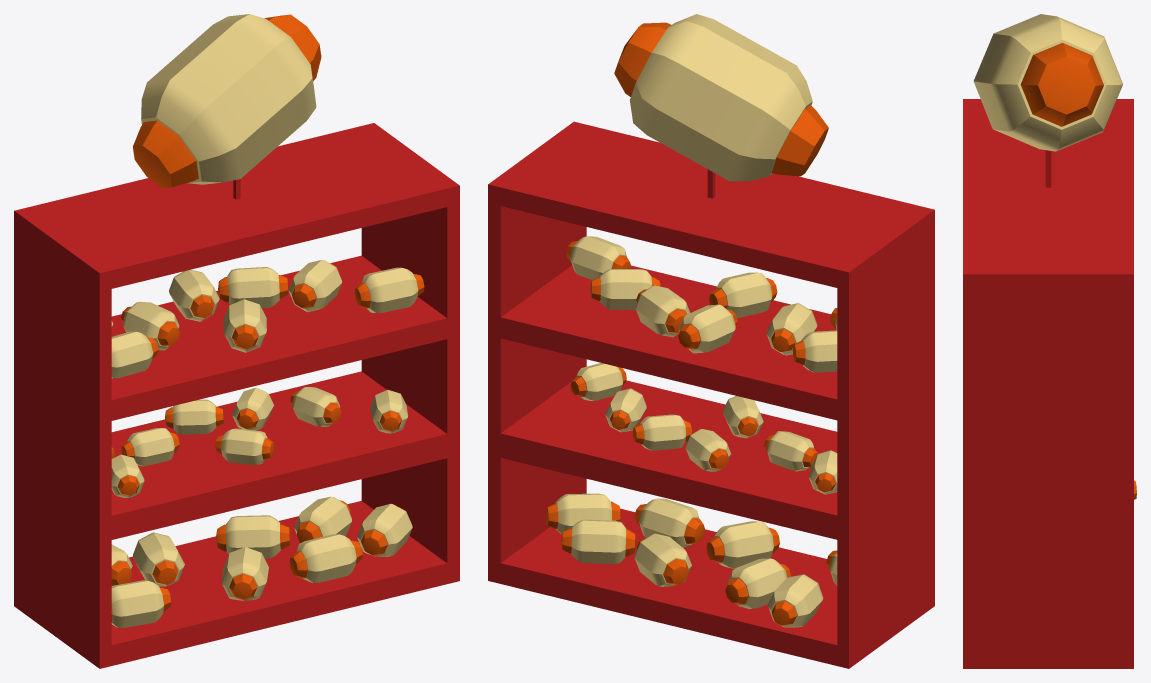
File: HotdogSpawner.fbx
The picture shows the model from 3 angles, left to right: view 1: azimuth 30°, elevation 25°; view 2: azimuth 150°, elevation 25°; view 3: azimuth 270°, elevation 25°; orthographic projection.
Parts seen in each view (by area): view 1: shelf_geo, bread_geo (×22), hotdog_geo; view 2: shelf_geo, bread_geo (×22), hotdog_geo; view 3: shelf_geo, bread_geo, hotdog_geo.
Part boxes in pixels (x1,y1,x2,y2): shelf_geo: (14, 123, 459, 668); bread_geo (×22): (111, 14, 418, 627); hotdog_geo: (133, 14, 321, 188); shelf_geo: (488, 121, 934, 668); bread_geo (×22): (555, 14, 837, 627); hotdog_geo: (614, 22, 828, 176); shelf_geo: (963, 99, 1133, 668); bread_geo: (973, 14, 1122, 151); hotdog_geo: (1020, 43, 1103, 126).
Bounding box in the file's own units: 5.76 × 8.72 × 2.41.
